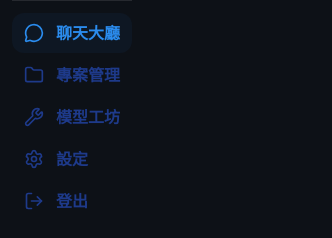
Test: NavigationArea — 登出按鈕 › 第一次點擊顯示確認提示，不立即登出
The image size is (332, 238).
What coordinates should you click on to do the following:
click the button "登出"
I would click on:
 (72, 201)
Its box is [12, 181, 132, 221].
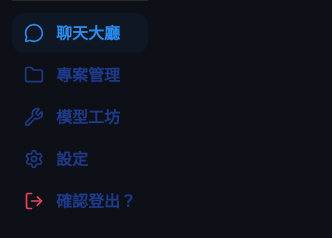
Check: the text "確認登出？" is shown, box [56, 189, 136, 213]
